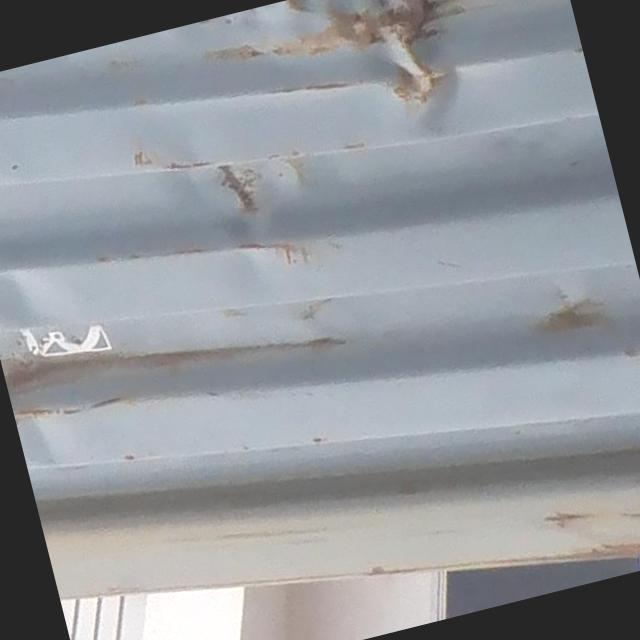rust: (280, 1, 475, 172)
